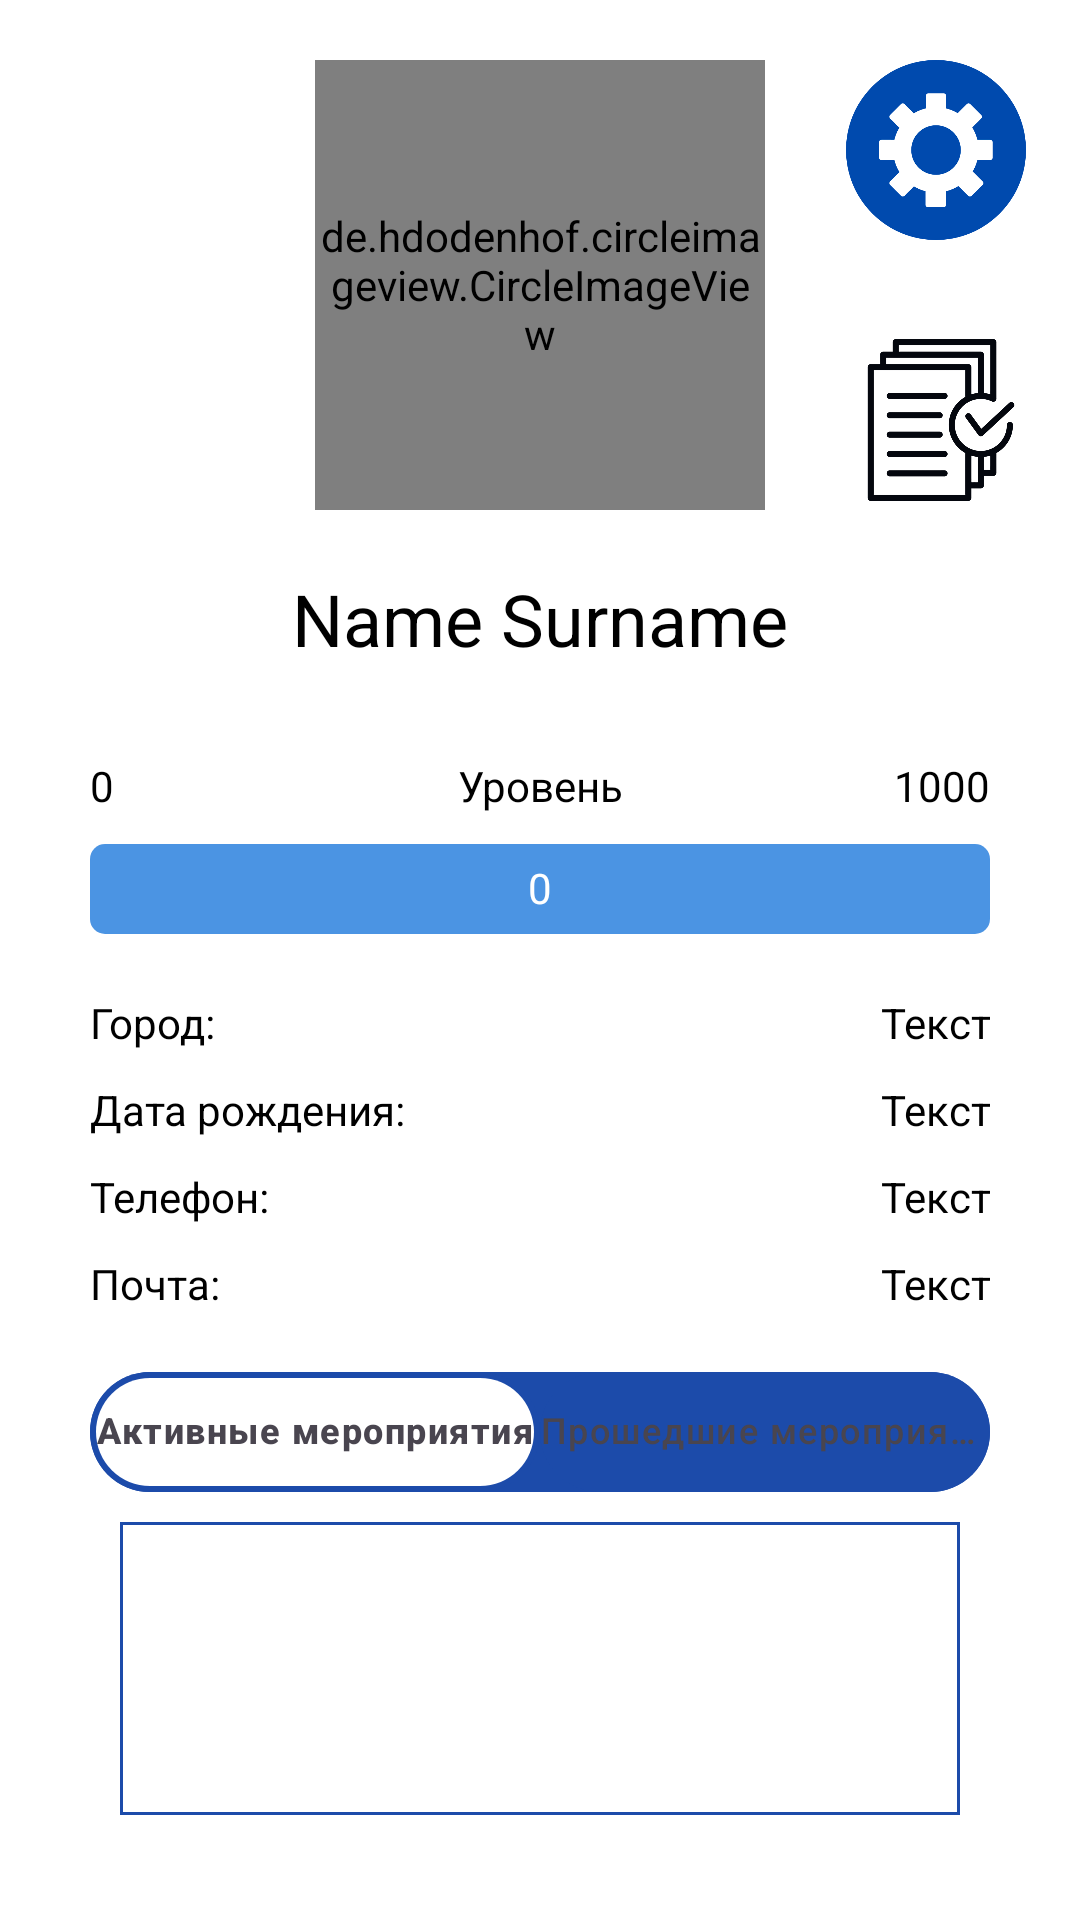

Where to tap for icons on this 1080px x 1920px app screen, as [x,y]:
myrequests: [941,420]
settings nograd: [936,150]
